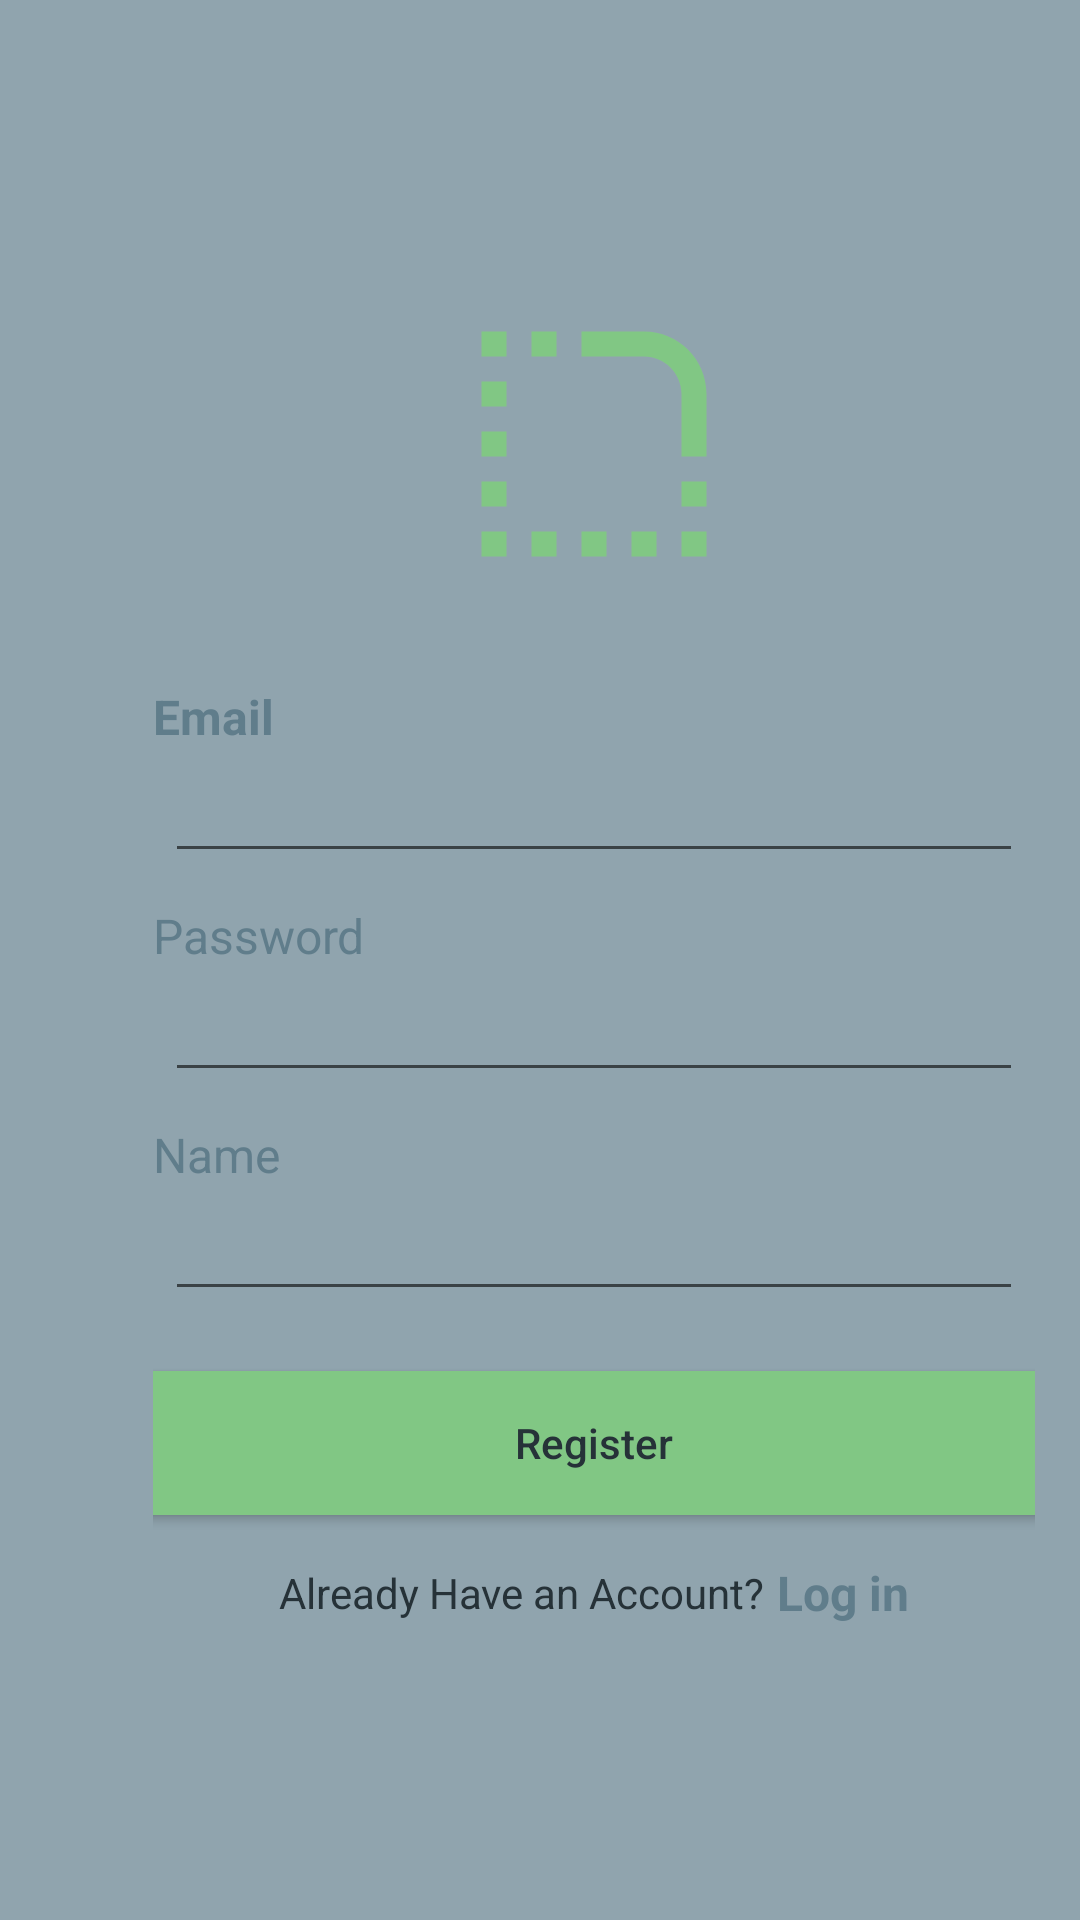

Icons on this 1080w x 1920h Android screen, each with the point to tap as (x,y):
corner: (594,444)
